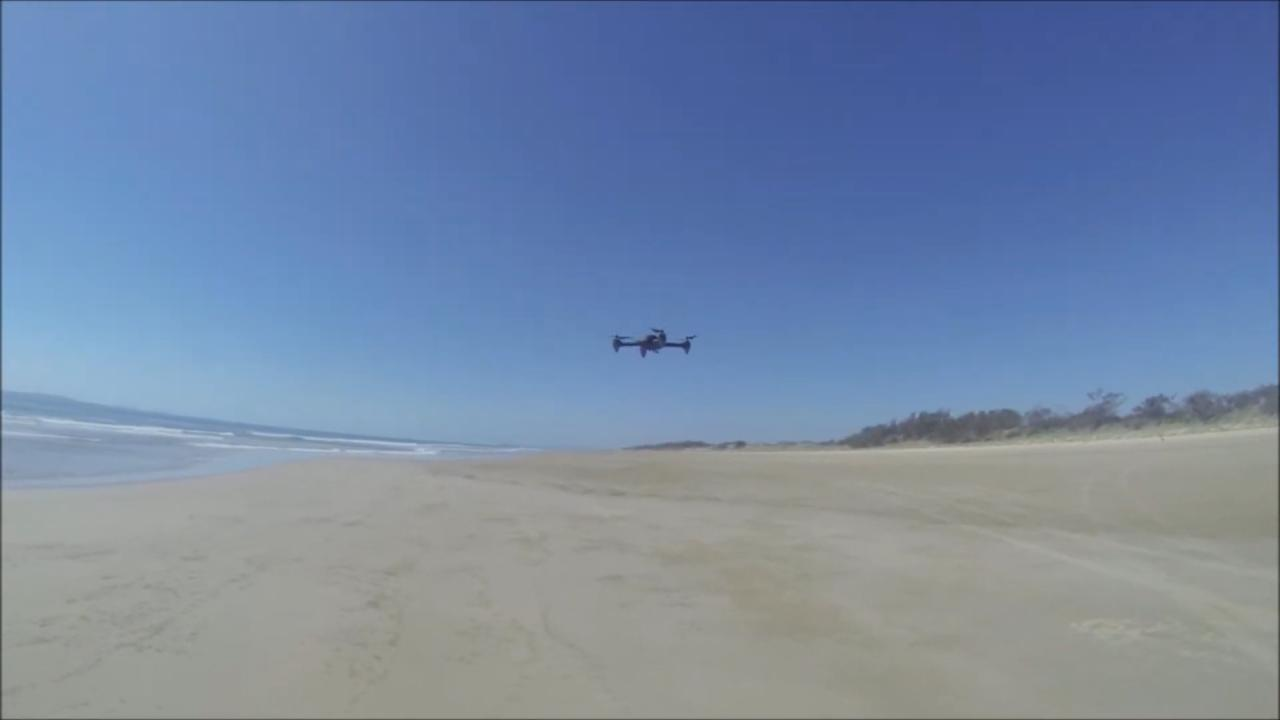Drone: (602, 316, 708, 372)
